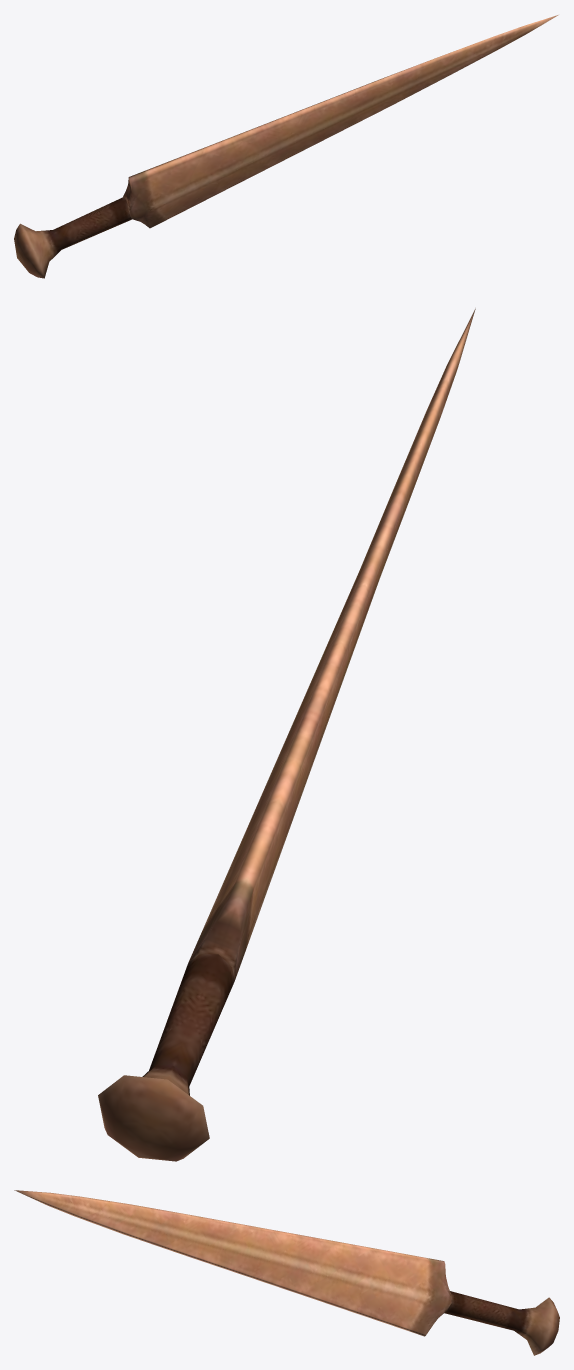
Rendered from weapon-base.glb.
The picture shows the model from 3 angles, top to bottom: view 1: azimuth 90°, elevation 25°; view 2: azimuth 150°, elevation 25°; view 3: azimuth 270°, elevation 25°; orthographic projection. The views are drawn at different scales.
Size of the model in its own units: 0.2474 by 0.3931 by 0.9234.
1 material, 1 textured.
